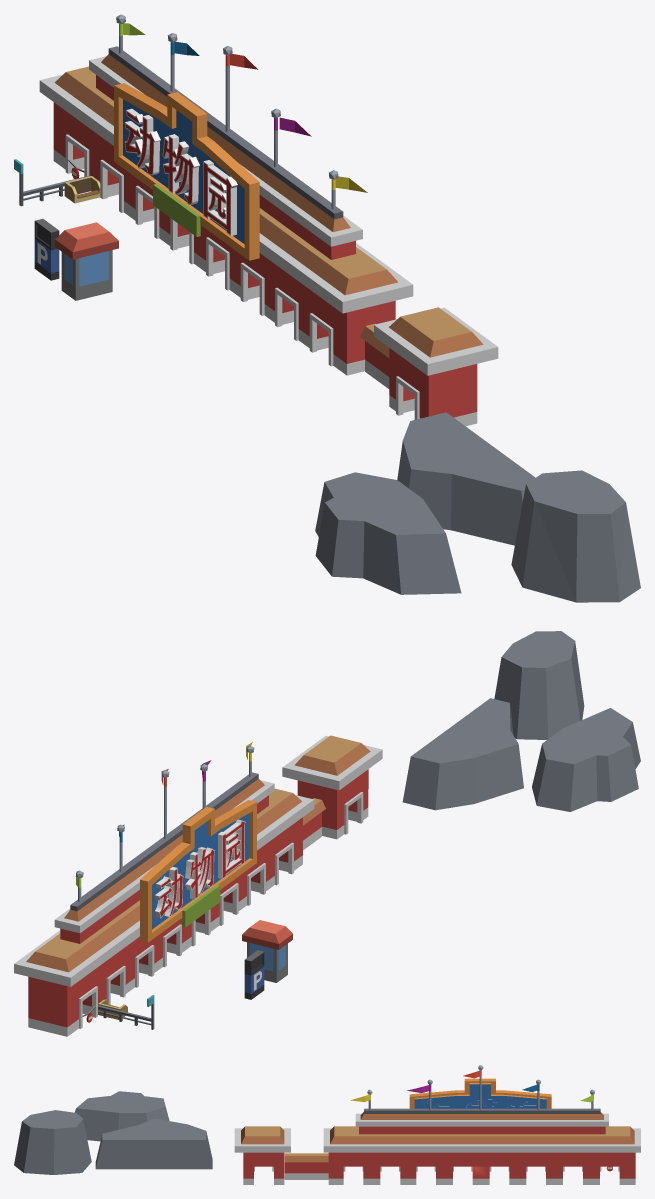
The model's file is damen_01.FBX.
The picture shows the model from 3 angles, top to bottom: view 1: azimuth 30°, elevation 25°; view 2: azimuth 150°, elevation 25°; view 3: azimuth 270°, elevation 25°; orthographic projection. The views are drawn at different scales.
Visible parts, largest first — view 1: Box002, Object003, Object004, Box013, Rectangle002, Object002, Text001, Box011, Box010, Object001; view 2: Box002, Box013, Object004, Object003, Rectangle002, Object002, Text001, Box011, Box010, Object001, Box007; view 3: Box002, Box013, Object003, Object004, Rectangle002, Object002, Object001.
Part boxes in pixels (left/top/right/bottom): Box002: left=39, top=14, right=413, bottom=375; Object003: left=511, top=470, right=640, bottom=602; Object004: left=315, top=472, right=461, bottom=594; Box013: left=397, top=412, right=535, bottom=545; Rectangle002: left=114, top=83, right=259, bottom=260; Object002: left=374, top=307, right=498, bottom=426; Text001: left=124, top=108, right=237, bottom=235; Box011: left=55, top=222, right=118, bottom=300; Box010: left=34, top=219, right=59, bottom=280; Object001: left=360, top=323, right=389, bottom=388; Box002: left=14, top=742, right=314, bottom=1036; Box013: left=402, top=698, right=523, bottom=810; Object004: left=532, top=708, right=640, bottom=811; Object003: left=494, top=631, right=584, bottom=739; Rectangle002: left=140, top=800, right=256, bottom=942; Object002: left=282, top=735, right=382, bottom=839; Text001: left=154, top=819, right=245, bottom=918; Box011: left=242, top=920, right=292, bottom=982; Box010: left=244, top=950, right=264, bottom=999; Object001: left=303, top=798, right=325, bottom=850; Box007: left=98, top=995, right=154, bottom=1029; Box002: left=323, top=1065, right=640, bottom=1184; Box013: left=95, top=1118, right=212, bottom=1169; Object003: left=14, top=1110, right=91, bottom=1174; Object004: left=74, top=1091, right=169, bottom=1141; Rectangle002: left=409, top=1078, right=551, bottom=1108; Object002: left=234, top=1126, right=290, bottom=1184; Object001: left=284, top=1153, right=328, bottom=1179.
Bounding box in the file's own units: 530 × 397 × 1975.
